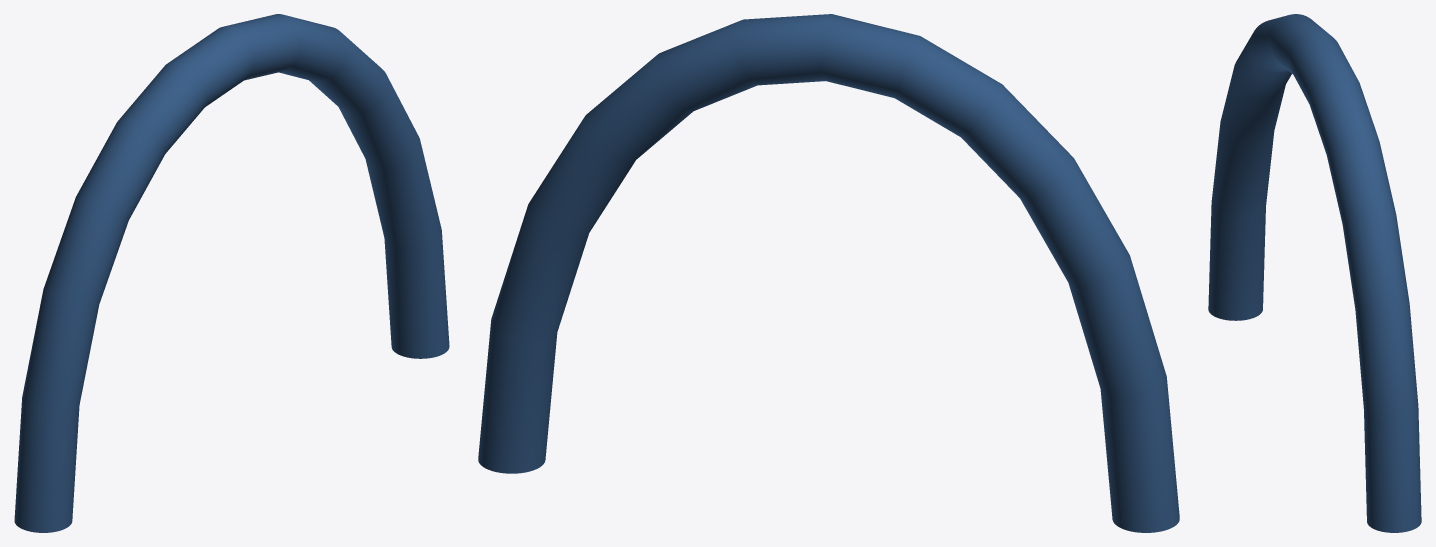
Rendered from spike0.gltf.
3 renders of one model, left to right at view 1: azimuth 30°, elevation 25°; view 2: azimuth 150°, elevation 25°; view 3: azimuth 270°, elevation 25°, orthographic. The views are drawn at different scales.
Visible parts, largest first — view 1: spike0; view 2: spike0; view 3: spike0.
Part boxes in pixels (x1=…): spike0: x1=14, y1=14, x2=449, y2=532; spike0: x1=478, y1=14, x2=1179, y2=532; spike0: x1=1208, y1=14, x2=1421, y2=532.
Size of the model in its own units: 0.3172 by 0.2406 by 0.1215.
